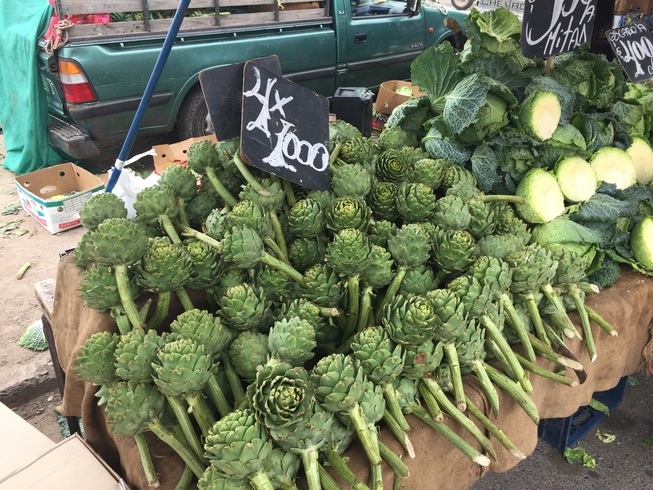precio: (230, 57, 348, 207)
